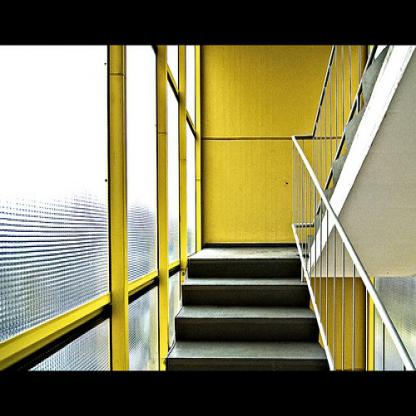stairs: (187, 256, 298, 378)
